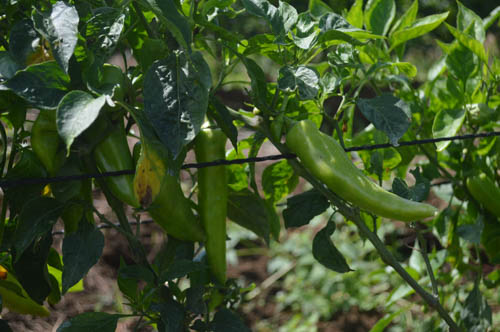ChiliPepper: (288, 122, 437, 220), (133, 141, 205, 241), (195, 129, 233, 283), (96, 118, 142, 207)
